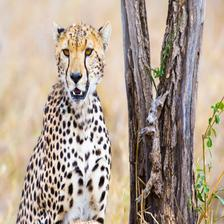Cheetah: (16, 18, 114, 224)
